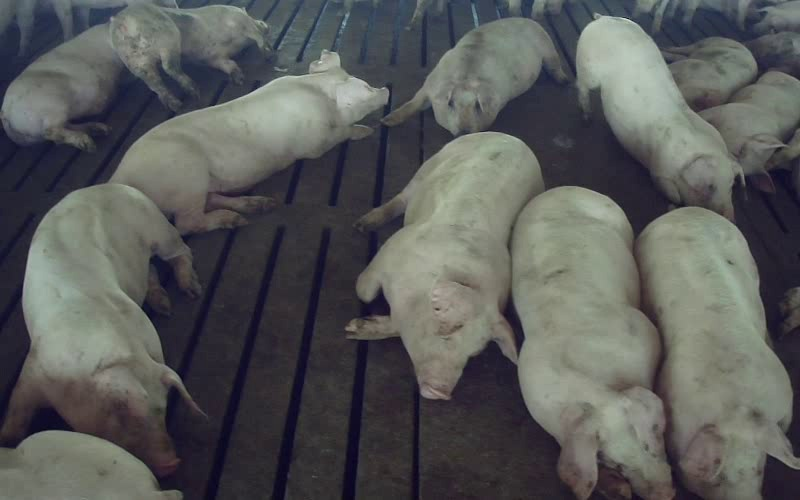pig: (0, 184, 201, 475), (346, 133, 543, 398), (511, 187, 674, 499), (110, 51, 387, 234), (636, 208, 799, 499), (576, 16, 742, 218), (381, 18, 567, 135), (110, 4, 271, 110), (0, 24, 123, 151), (699, 71, 799, 191), (662, 37, 757, 110)
